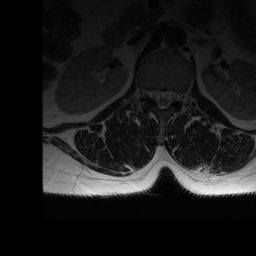CCS_normal: (159, 85, 166, 114)
LFS_normal: (175, 87, 182, 107)
LLS_normal: (166, 85, 174, 108)
RFS_normal: (144, 84, 152, 105)
RLS_normal: (152, 84, 159, 109)
